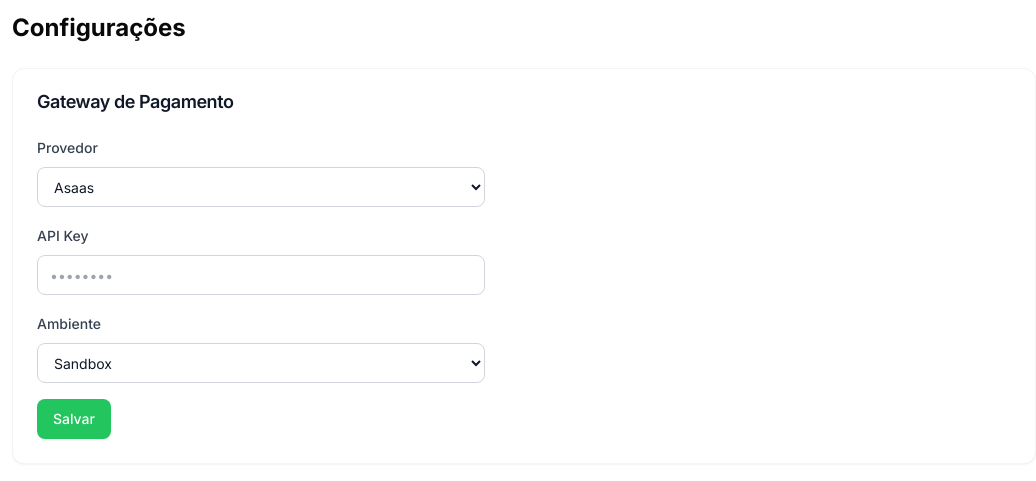
it: SettingsPage — Multi-Provider › states › shows saving state on submit button
The image size is (1036, 481).
Type "test-key" into the password field labelled "API Key" at point(261, 275), box [37,255,485,295]
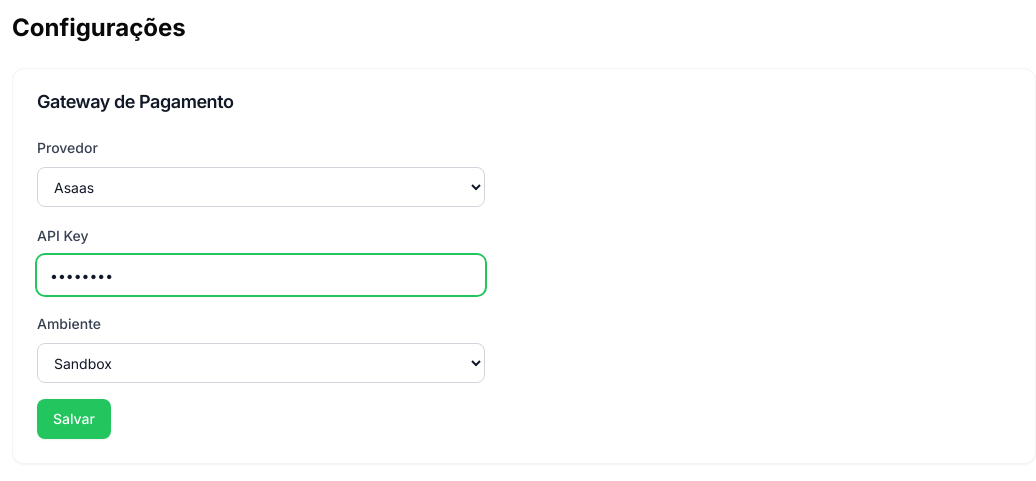
Click the button "Salvar" at point(74, 419), box [37,399,111,439]
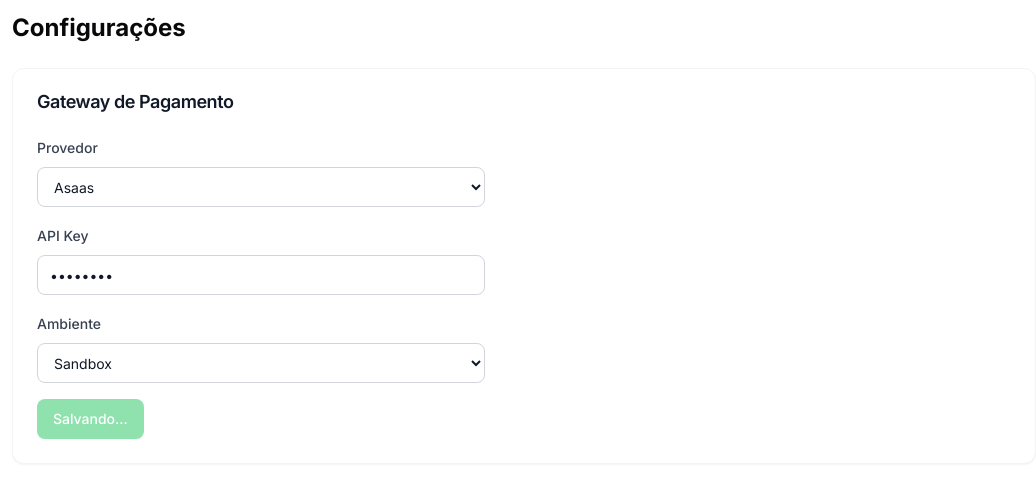
Expected: the button "Salvando..." is disabled, [37,399,144,439]
